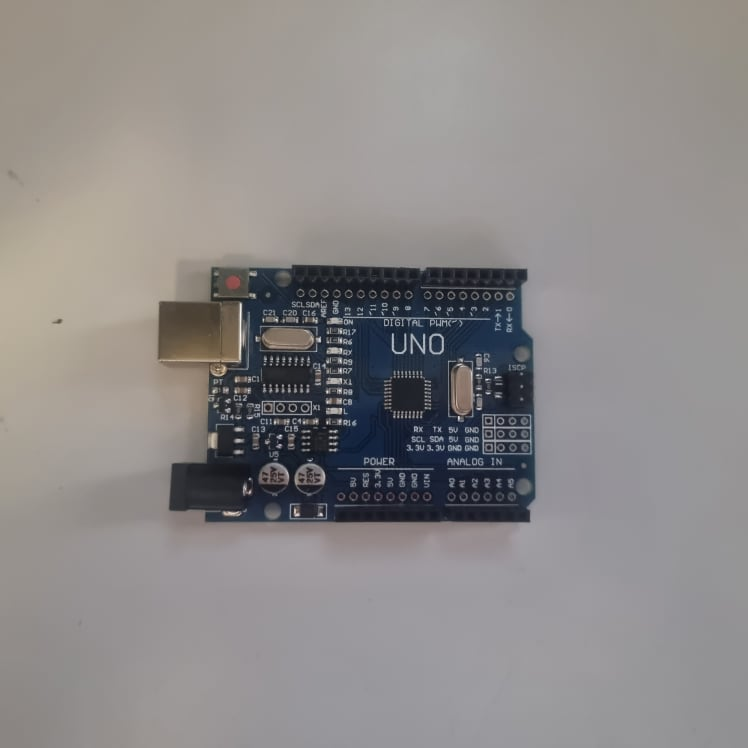UNO R3: (158, 262, 540, 527)
